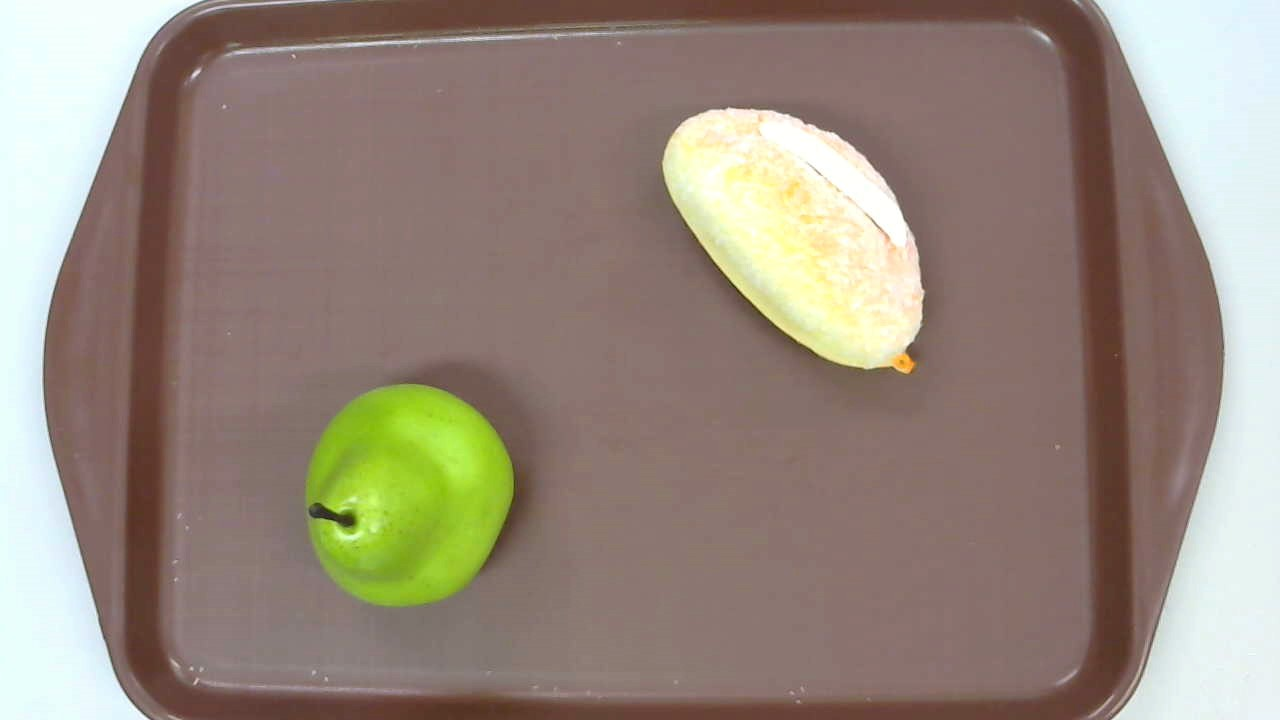coconut: (662, 107, 923, 373)
green pear: (304, 385, 516, 607)
